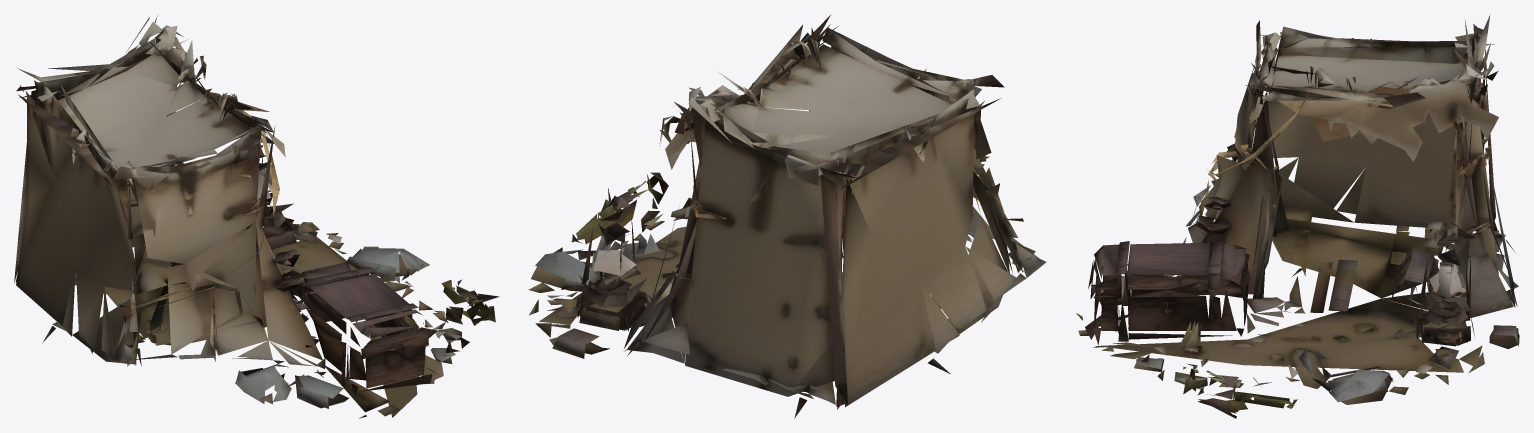
Rendered from ch4_1890s_expedition_relics_LOD3.glb.
3 renders of one model, left to right at view 1: azimuth 30°, elevation 25°; view 2: azimuth 150°, elevation 25°; view 3: azimuth 270°, elevation 25°, orthographic. The views are drawn at different scales.
Visible parts, largest first — view 1: tripo_node_3d1a29e7-ccef-40ac-9436-c12024c8dad5; view 2: tripo_node_3d1a29e7-ccef-40ac-9436-c12024c8dad5; view 3: tripo_node_3d1a29e7-ccef-40ac-9436-c12024c8dad5.
Boxes of the visible parts, bbox=[...] form: tripo_node_3d1a29e7-ccef-40ac-9436-c12024c8dad5: bbox=[14, 15, 499, 418]; tripo_node_3d1a29e7-ccef-40ac-9436-c12024c8dad5: bbox=[528, 15, 1046, 418]; tripo_node_3d1a29e7-ccef-40ac-9436-c12024c8dad5: bbox=[1076, 14, 1519, 418].
Size of the model in its own units: 0.9898 by 0.6592 by 0.9988.
Materials: 1 (1 with a texture image).
